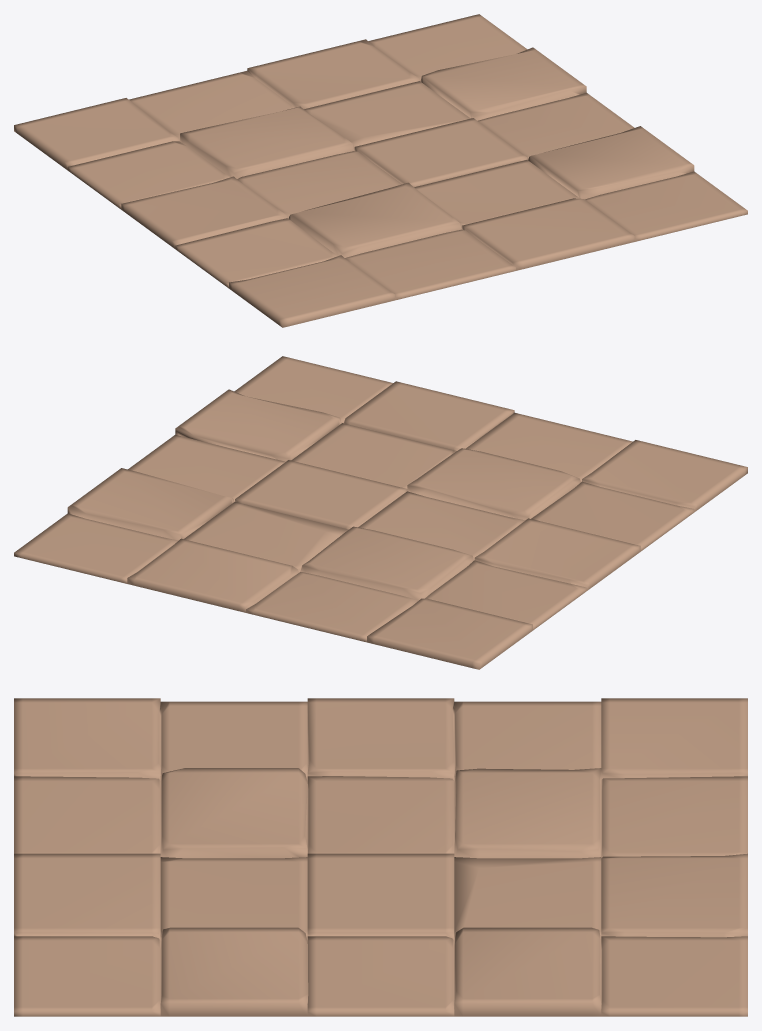
Rendered from Brick_Floor_LP.FBX.
The picture shows the model from 3 angles, top to bottom: view 1: azimuth 30°, elevation 25°; view 2: azimuth 150°, elevation 25°; view 3: azimuth 270°, elevation 25°; orthographic projection. The views are drawn at different scales.
Visible parts, largest first — view 1: Plane001; view 2: Plane001; view 3: Plane001.
Part boxes in pixels (<box>): Plane001: <box>14,14,747,327</box>; Plane001: <box>14,356,747,669</box>; Plane001: <box>14,698,747,1016</box>.
Size of the model in its own units: 101 by 2.16 by 101.
